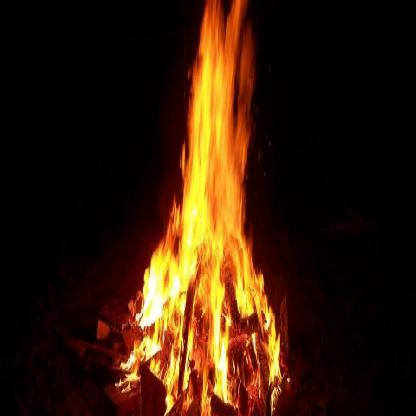fire: (104, 1, 291, 412)
